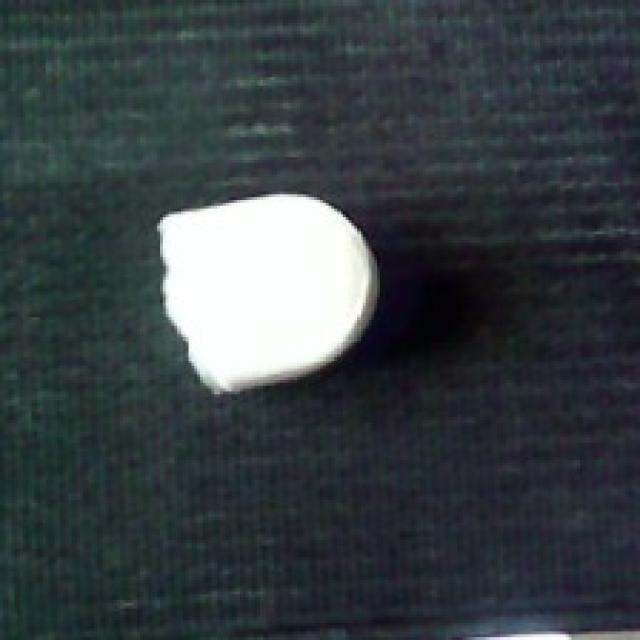defected: (154, 183, 389, 400)
